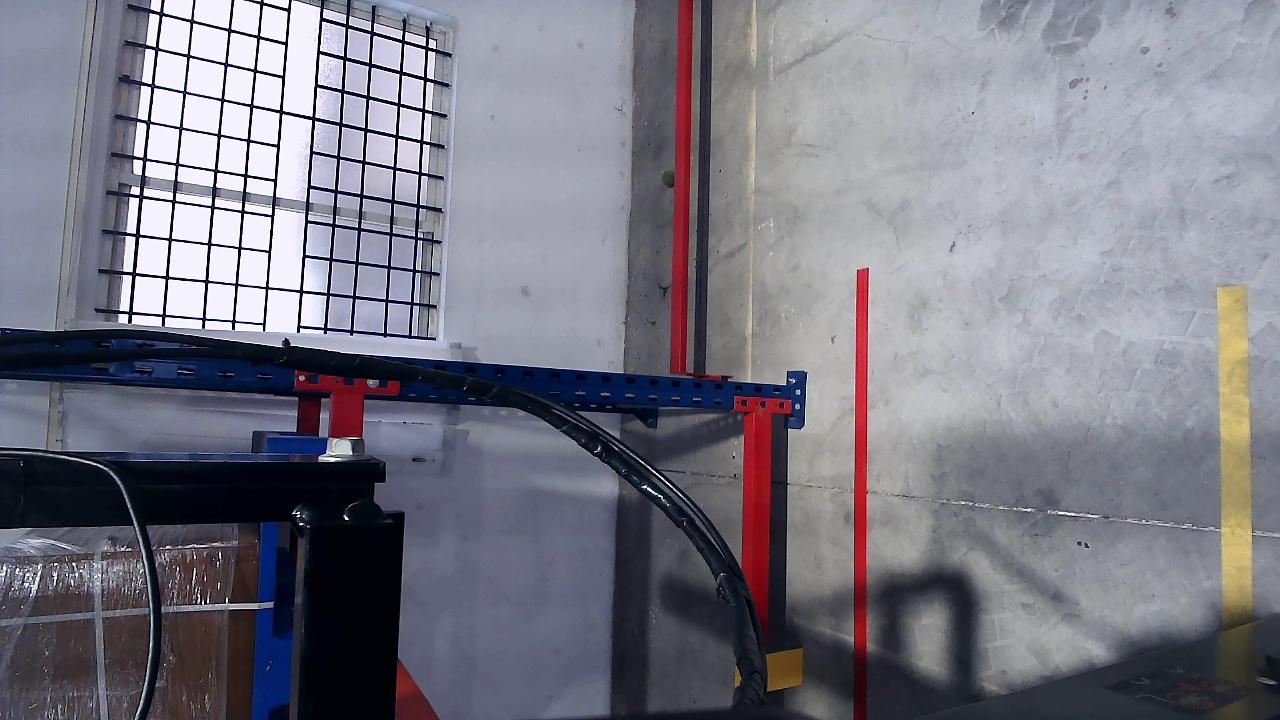h_rack: (747, 409, 772, 618)
orange_strip: (766, 649, 804, 691)
red_line: (852, 270, 873, 719)
yellow_line: (1217, 286, 1256, 685)
